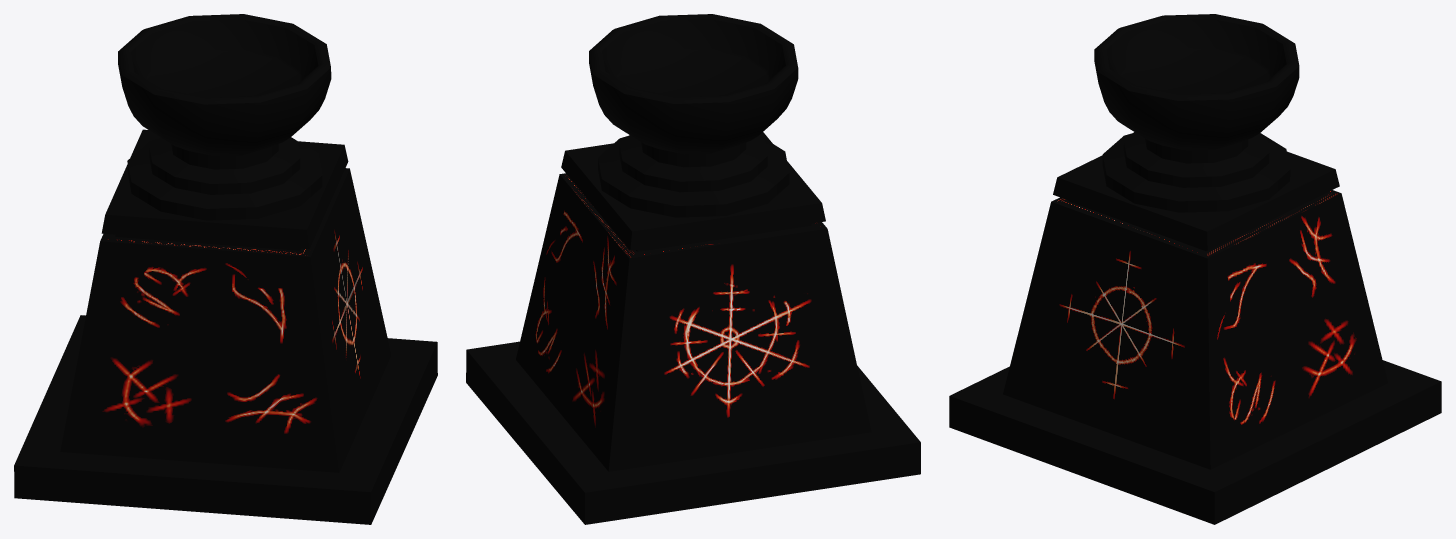
The model's file is CauldronV2.glb.
3 renders of one model, left to right at view 1: azimuth 30°, elevation 25°; view 2: azimuth 150°, elevation 25°; view 3: azimuth 270°, elevation 25°, orthographic. The views are drawn at different scales.
Visible parts, largest first — view 1: Altar; view 2: Altar; view 3: Altar.
Part boxes in pixels (left/top/right/bottom): Altar: left=14, top=14, right=437, bottom=524; Altar: left=466, top=14, right=920, bottom=524; Altar: left=949, top=14, right=1441, bottom=524.
Bounding box in the file's own units: 1.34 × 1.1 × 1.34.
1 material, 1 textured.
